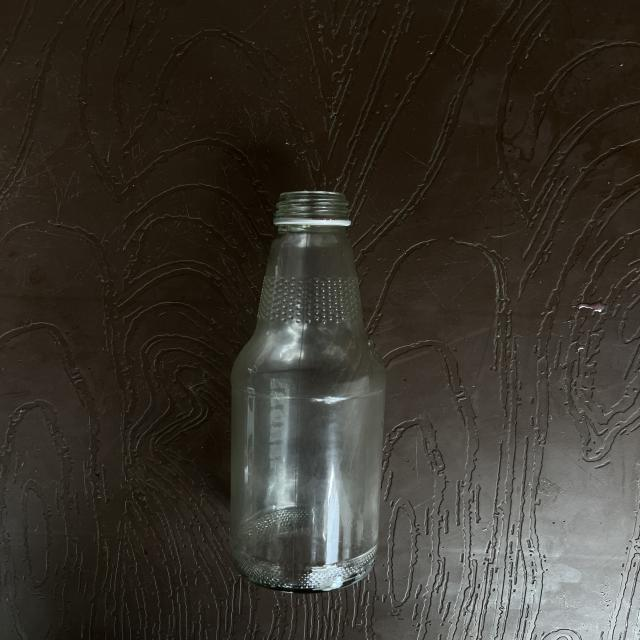Glass_Bottle: (230, 192, 385, 591)
